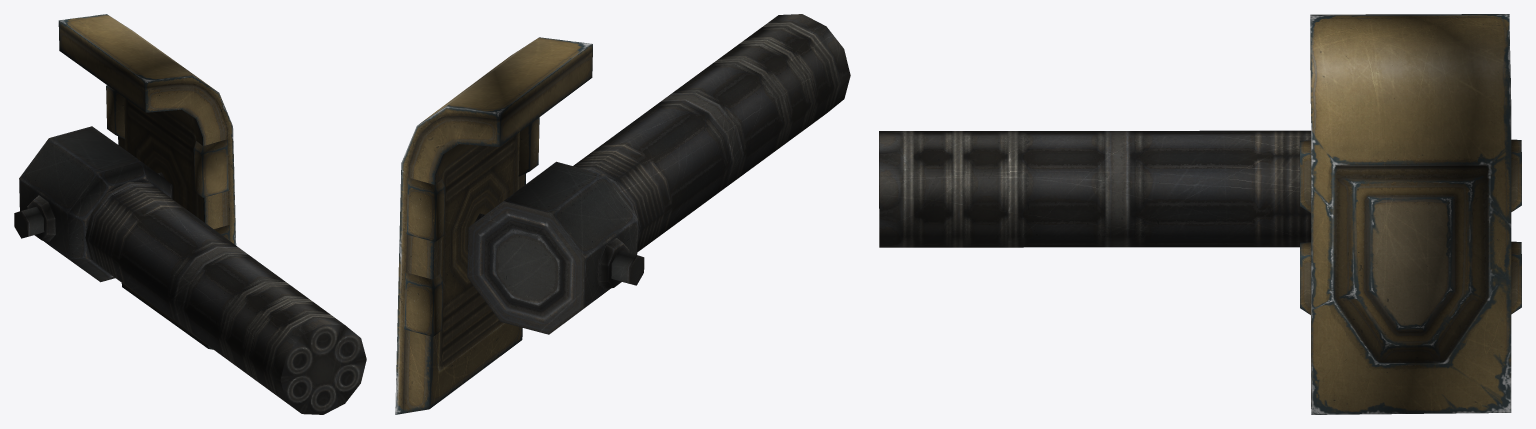
File: Mech01_Weapon_L.FBX
The picture shows the model from 3 angles, left to right: view 1: azimuth 30°, elevation 25°; view 2: azimuth 150°, elevation 25°; view 3: azimuth 270°, elevation 25°; orthographic projection. The views are drawn at different scales.
Visible parts, largest first — view 1: weapon_L1, weapon_L2; view 2: weapon_L1, weapon_L2; view 3: weapon_L1, weapon_L2.
Boxes of the visible parts, x1,y1,x2,y2 form: weapon_L1: (14, 14, 236, 349); weapon_L2: (85, 182, 366, 414); weapon_L1: (395, 37, 644, 414); weapon_L2: (573, 14, 850, 252); weapon_L1: (1300, 14, 1521, 414); weapon_L2: (879, 130, 1311, 247).
Size of the model in its own units: 388 by 621 by 1045.
